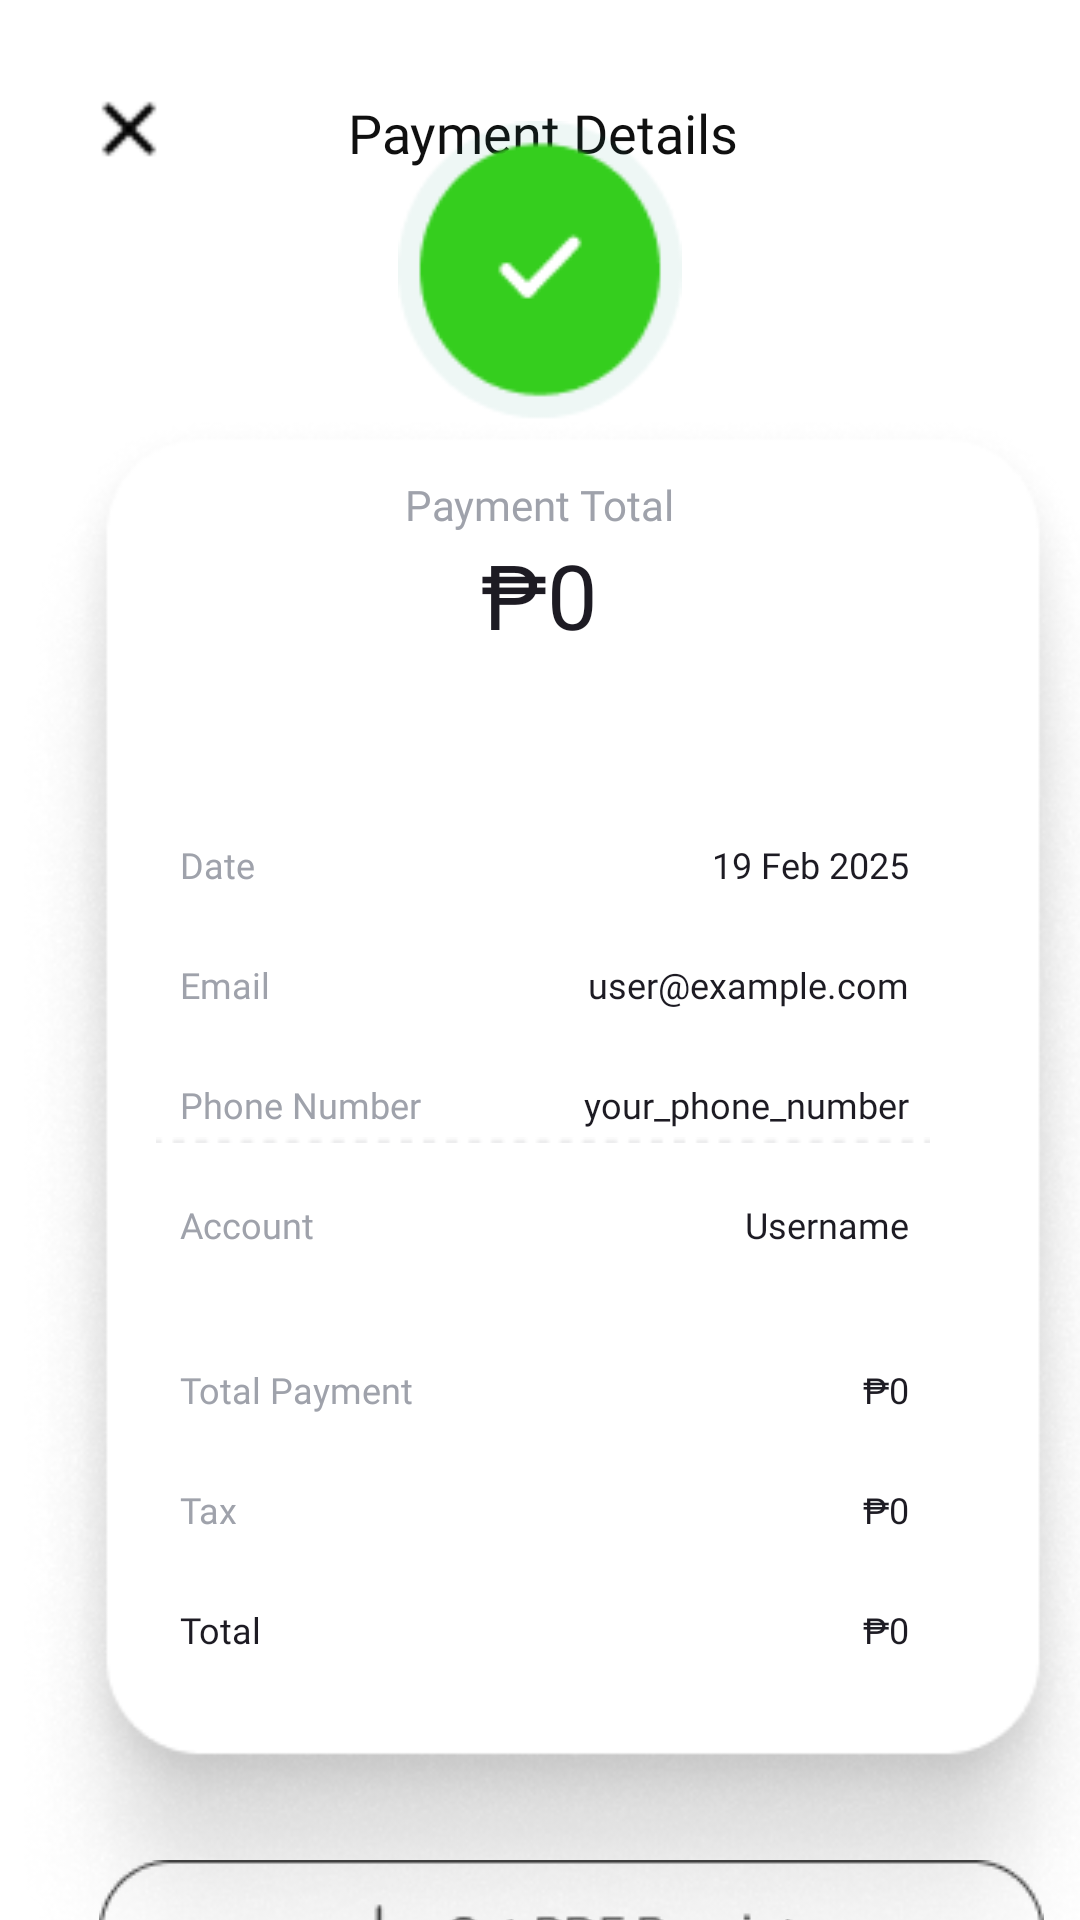

Icon bounding boxes for this 1080 x 1920 phone screenshot, format box=[x1, y1, x2, y2]:
clear: box=[102, 102, 156, 156]
success: box=[390, 121, 690, 397]
